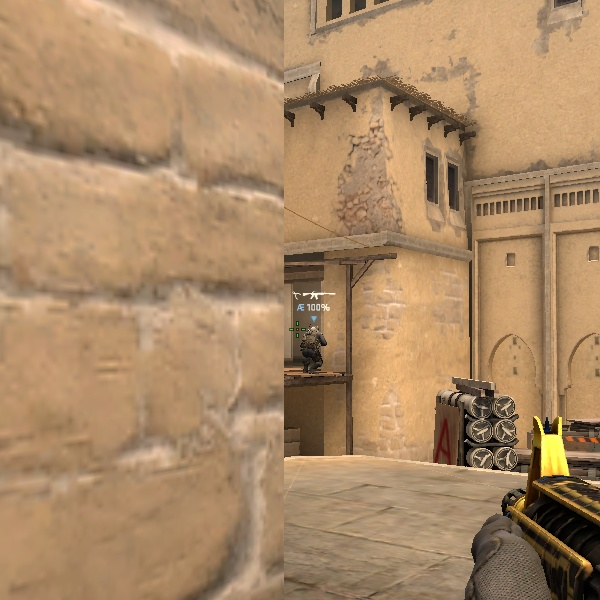t_body: (292, 322, 332, 372)
